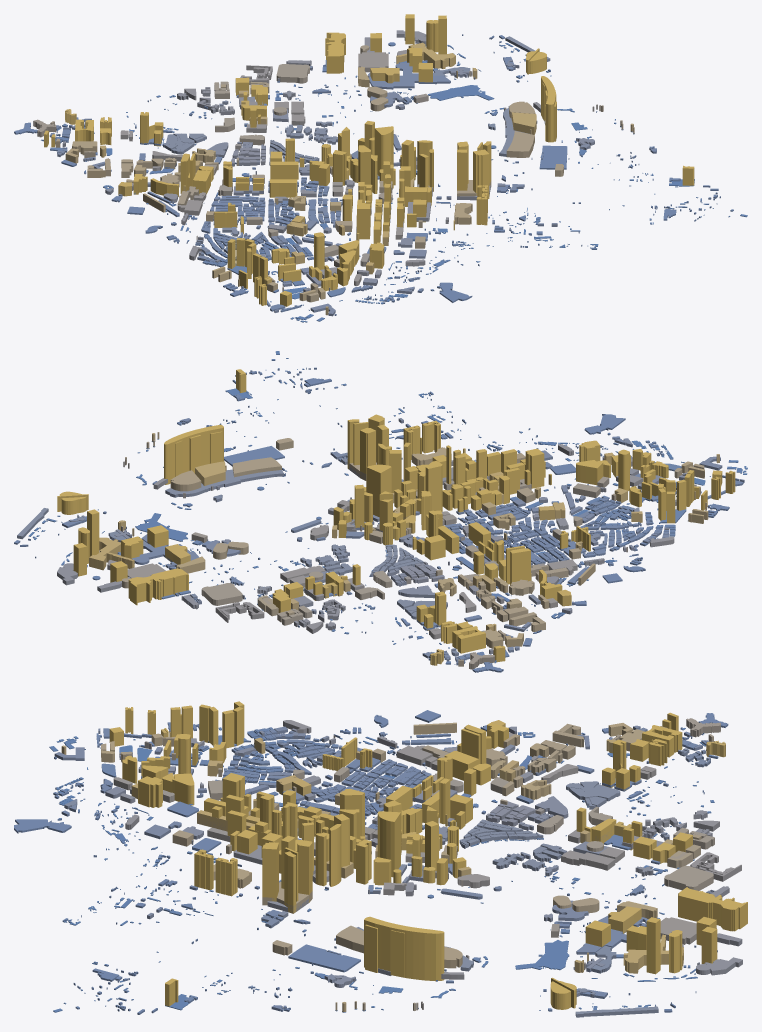
File: buildings.glb
The picture shows the model from 3 angles, top to bottom: view 1: azimuth 30°, elevation 25°; view 2: azimuth 150°, elevation 25°; view 3: azimuth 270°, elevation 25°; orthographic projection. The views are drawn at different scales.
Visible parts, largest first — view 1: buildings; view 2: buildings; view 3: buildings.
Boxes of the visible parts, x1,y1,x2,y2 form: buildings: (14,14,747,322); buildings: (14,351,747,672); buildings: (14,701,747,1017).
Bounding box in the file's own units: 2772 × 256 × 2899.
